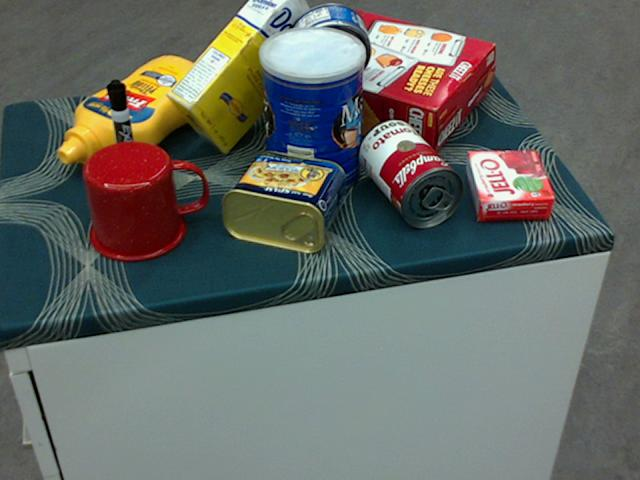cracker_box: (264, 2, 492, 157)
gelatin_box: (463, 150, 554, 220)
large_marker: (104, 80, 141, 189)
master_chef_can: (258, 27, 364, 198)
mug: (84, 140, 208, 261)
mustard_bottle: (56, 56, 215, 164)
potted_meat_can: (220, 151, 344, 252)
sugar_box: (164, 0, 325, 156)
tomato_soup_can: (359, 118, 462, 227)
tuna_fish_can: (287, 2, 371, 86)
